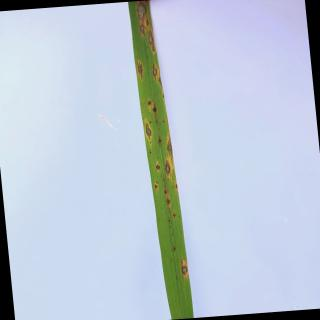Blast: (136, 0, 148, 21), (180, 258, 189, 278), (166, 133, 173, 156), (145, 123, 153, 140), (164, 160, 172, 176), (137, 61, 144, 78), (152, 63, 158, 81), (147, 30, 154, 45), (158, 70, 163, 90), (139, 23, 145, 35), (152, 104, 158, 115), (156, 162, 162, 172), (150, 43, 156, 53), (154, 182, 159, 191), (163, 186, 168, 195), (166, 196, 170, 207), (145, 18, 150, 26), (158, 136, 162, 145), (147, 99, 152, 106), (174, 182, 178, 190), (172, 212, 176, 219)
